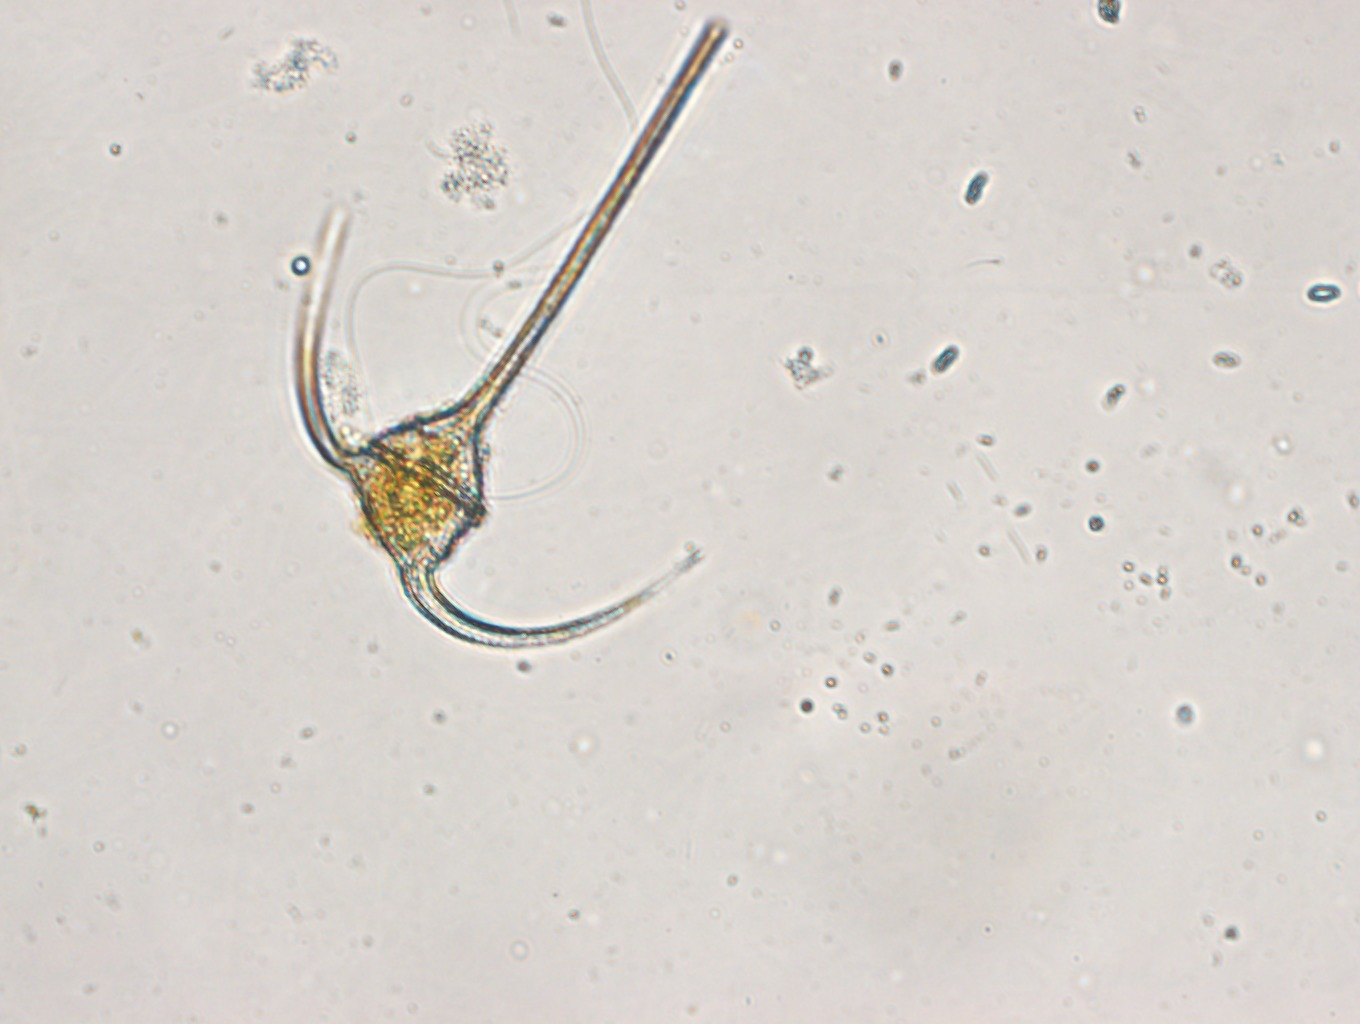ceratium trichoceros: (282, 15, 742, 646)
